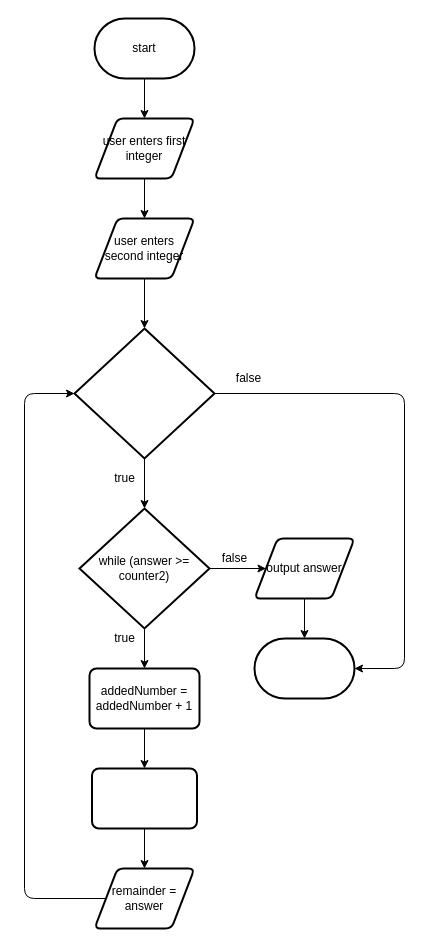
Image size: 430x946. Some labels were removed from this diagram. The shapes that lost their labels are listed below. From the top down, each one's centre as x and y in pixels, then its label:
At point 144,393: "if counter1 > 0 && counter2 > 0".
At point 304,668: "stop".
At point 144,798: "answer = answer - counter2".
